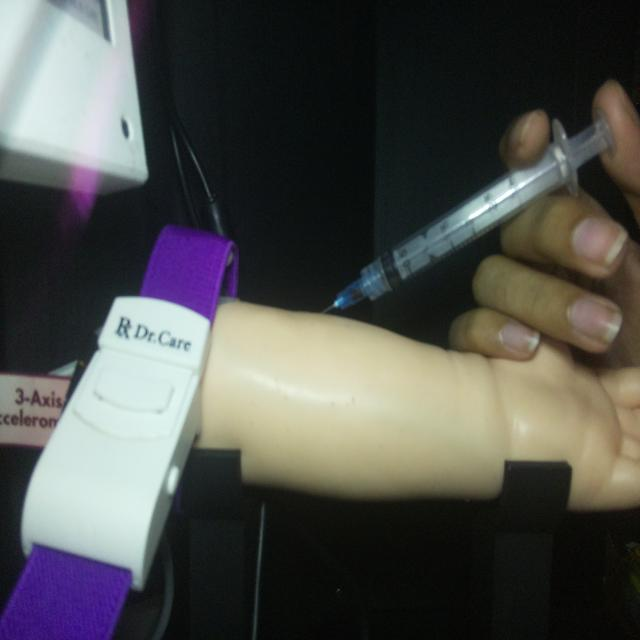24 degrees: (320, 108, 616, 316)
